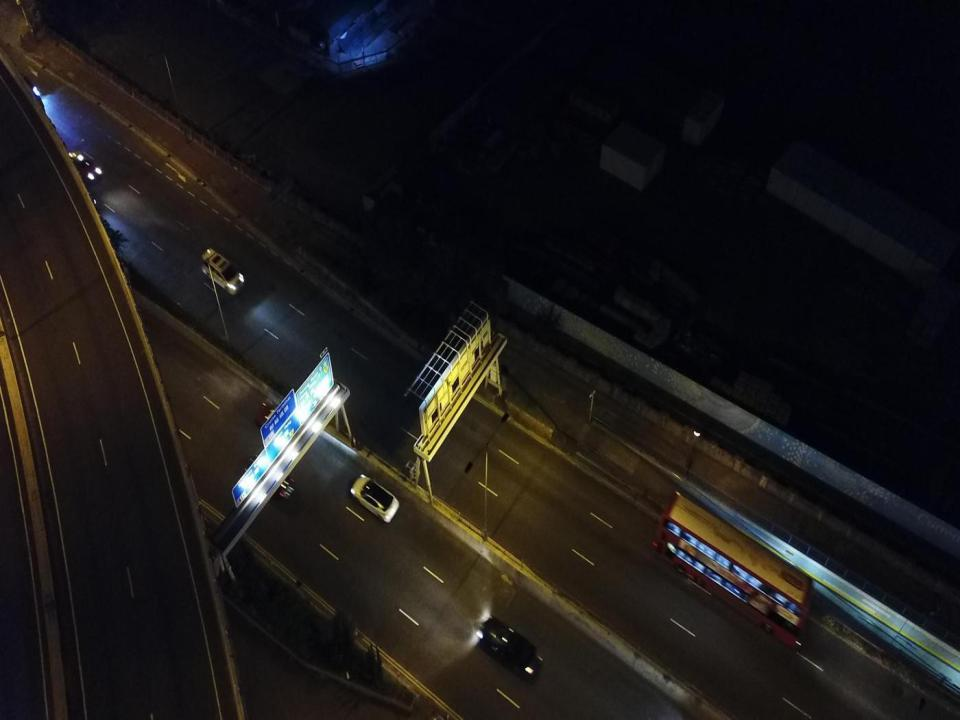bus: (656, 491, 813, 652)
car: (479, 616, 540, 680), (349, 474, 400, 528), (255, 401, 302, 451), (249, 458, 294, 500), (4, 70, 43, 109), (58, 150, 102, 184)
van: (198, 251, 244, 295)
